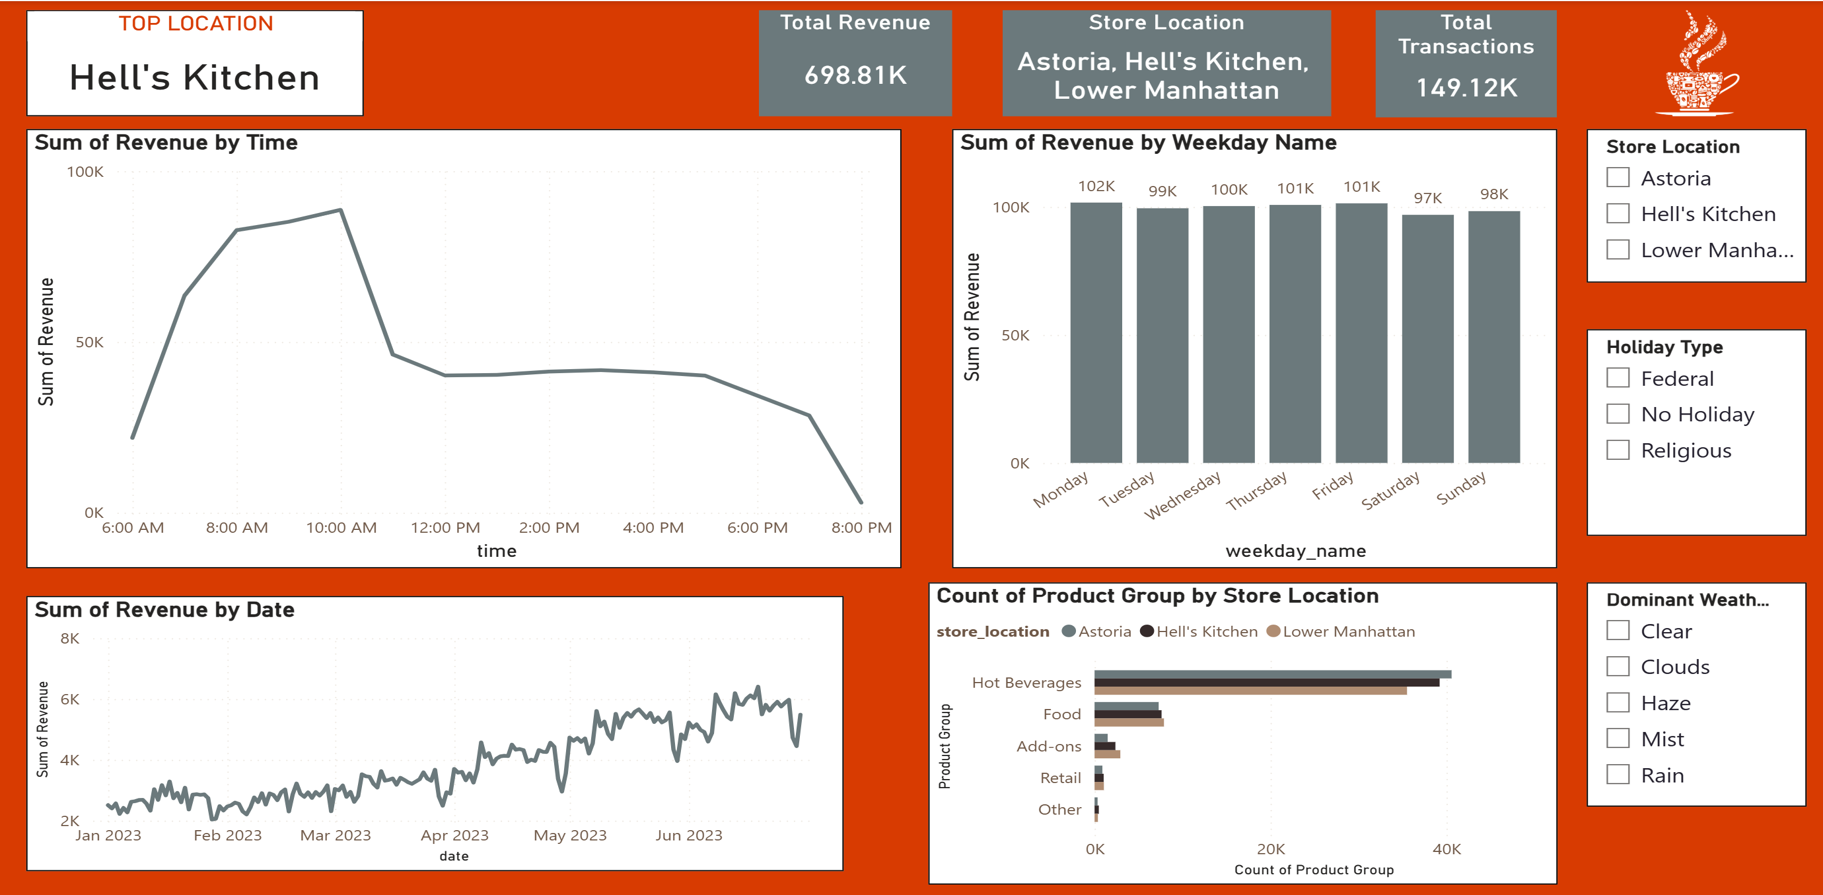

Layout of this report page (visuals, bound fields, positions):
{"tool":"powerbi","page":{"name":"1.Executive Manager Dashboard","canvas":[1280,720],"ordinal":0},"visuals":[{"type":"lineChart","title":"Sum of Revenue by Time","fields":{"Y":["Sum(Transactions.Revenue)"],"Category":["us_calendar_jan_jun_2023_with_r.time"]},"box":[19.7,102.9,612.1,353.3],"z":0},{"type":"card","title":"Store Location","fields":{"Values":["Manager Dasboard Mesures.Selected Locations"]},"box":[702.5,7.3,229.7,85.2],"z":1000},{"type":"card","title":"TOP LOCATION","fields":{"Values":["Transactions.Top Store (Static)"]},"box":[19.7,7.3,235.9,85.2],"z":2000},{"type":"card","title":"Total Revenue","fields":{"Values":["Sum(Transactions.Revenue)"]},"box":[532,7.3,135.1,85.2],"z":3000},{"type":"card","title":"Total Transactions","fields":{"Values":["Count(Transactions.transaction_id)"]},"box":[963.3,7.3,126.8,86.2],"z":4000},{"type":"clusteredColumnChart","title":"Sum of Revenue by Weekday Name","fields":{"Category":["us_calendar_jan_jun_2023_with_r.weekday_name"],"Y":["Sum(Transactions.Revenue)"]},"box":[667.1,102.9,422.9,353.3],"z":5000},{"type":"lineChart","title":"Sum of Revenue by Date","fields":{"Y":["Sum(Transactions.Revenue)"],"Category":["us_calendar_jan_jun_2023_with_r.date.Variation.Date Hierarchy.Year"]},"box":[20,480,612.5,220],"z":6000},{"type":"clusteredBarChart","title":"Count of Product Group by Store Location","fields":{"Category":["Transactions.Product Group"],"Y":["CountNonNull(Transactions.Product Group)"],"Series":["Transactions.store_location"]},"box":[667.5,480,422.5,220],"z":7000},{"type":"image","box":[1111.9,7.3,152.8,85.2],"z":8000},{"type":"slicer","fields":{"Values":["Transactions.store_location"]},"box":[1112.5,102.5,152.5,147.5],"z":9000},{"type":"slicer","fields":{"Values":["us_calendar_jan_jun_2023_with_r.Holiday Type"]},"box":[1112.5,280,152.5,176.2],"z":10000},{"type":"slicer","fields":{"Values":["DailyWeatherDominant.DominantWeather"]},"box":[1112.5,480,152.5,220],"z":11000}]}

Visuals, with their boxes on the page's 1280x720 design canvas (x1, y1, x2, y2). These are canvas units, not pixel positions in the 1823x895 screenshot, which may show the page scaled, cropped or inside an application window:
"Sum of Revenue by Time" lineChart: <bbox>20, 103, 632, 456</bbox>
"Store Location" card: <bbox>702, 7, 932, 92</bbox>
"TOP LOCATION" card: <bbox>20, 7, 256, 92</bbox>
"Total Revenue" card: <bbox>532, 7, 667, 92</bbox>
"Total Transactions" card: <bbox>963, 7, 1090, 94</bbox>
"Sum of Revenue by Weekday Name" clusteredColumnChart: <bbox>667, 103, 1090, 456</bbox>
"Sum of Revenue by Date" lineChart: <bbox>20, 480, 632, 700</bbox>
"Count of Product Group by Store Location" clusteredBarChart: <bbox>668, 480, 1090, 700</bbox>
image: <bbox>1112, 7, 1265, 92</bbox>
slicer - Transactions.store_location: <bbox>1112, 102, 1265, 250</bbox>
slicer - us_calendar_jan_jun_2023_with_r.Holiday Type: <bbox>1112, 280, 1265, 456</bbox>
slicer - DailyWeatherDominant.DominantWeather: <bbox>1112, 480, 1265, 700</bbox>
